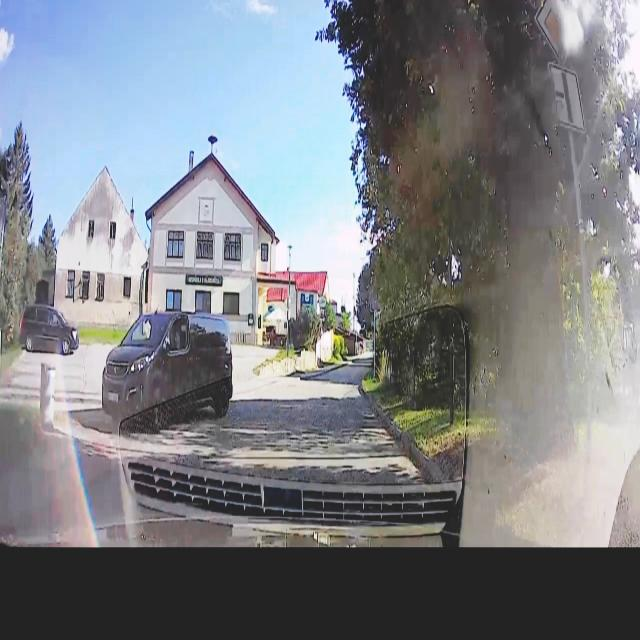Priority road: (534, 0, 579, 70)
